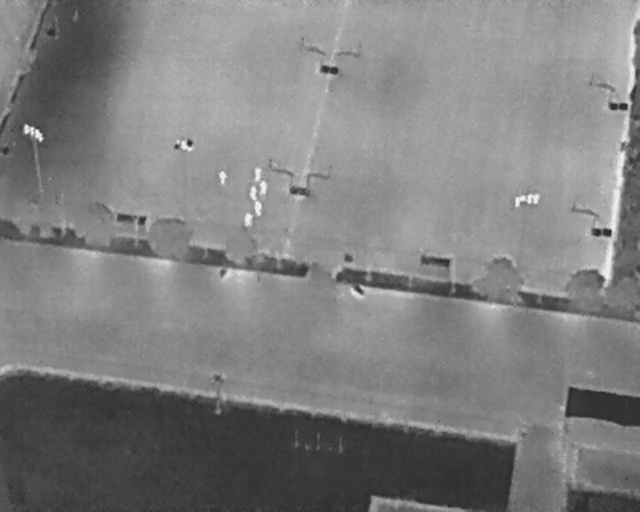Person: (259, 180, 268, 197), (254, 200, 263, 217), (249, 186, 258, 202), (244, 212, 253, 228), (219, 170, 228, 185), (254, 167, 262, 182)
